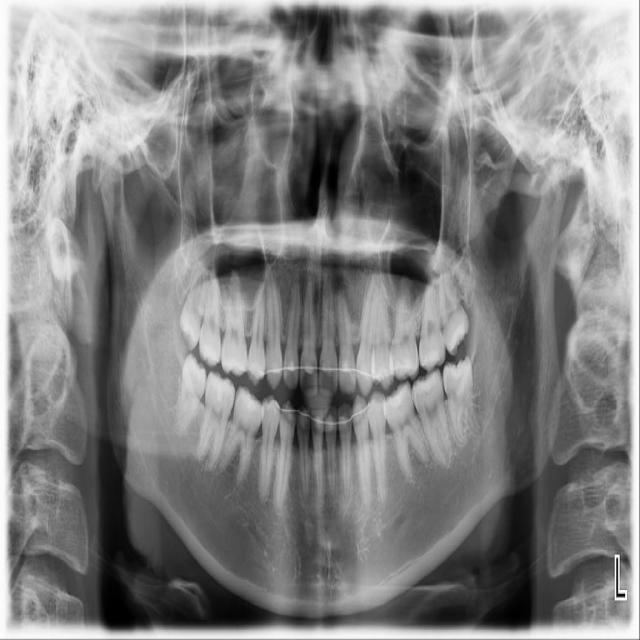impacted tooth: (442, 357, 482, 440), (175, 352, 207, 434), (438, 270, 469, 352), (180, 265, 207, 349)
